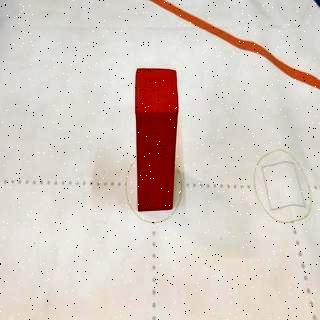redbox: (134, 66, 179, 214)
